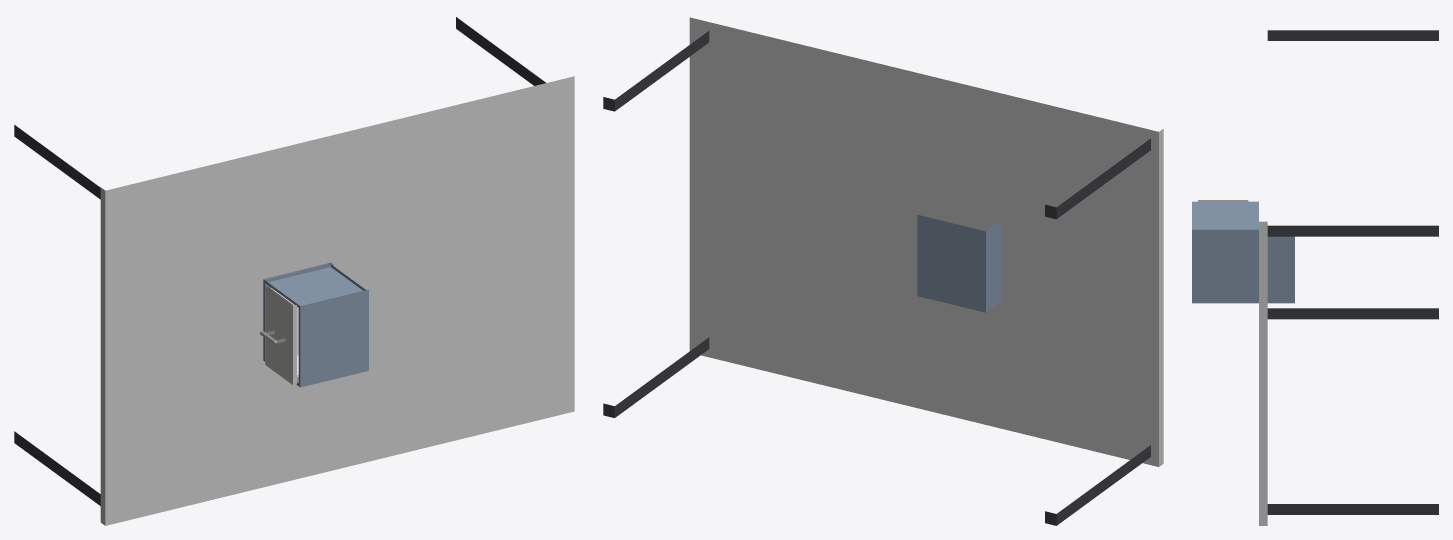
3 views of the same model, side by side, from view 1: azimuth 30°, elevation 25°; view 2: azimuth 150°, elevation 25°; view 3: azimuth 270°, elevation 25° (orthographic). The views are drawn at different scales.
Visible parts, largest first — view 1: s0, s1, s2; view 2: s0, s1; view 3: s0, s1.
Part boxes in pixels (box(x1,y1,x2,y2)): s0: box(14, 17, 574, 525); s1: box(263, 262, 368, 387); s2: box(260, 286, 298, 384); s0: box(603, 17, 1163, 525); s1: box(917, 214, 1000, 312); s0: box(1259, 30, 1438, 525); s1: box(1192, 201, 1294, 303).
Size of the model in its own units: 2.05 by 1.4 by 1.03.
